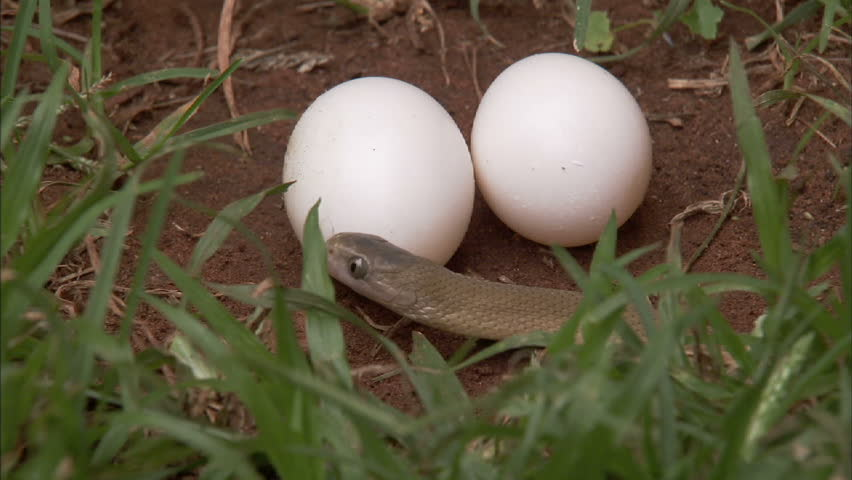Egg: (471, 34, 657, 253)
